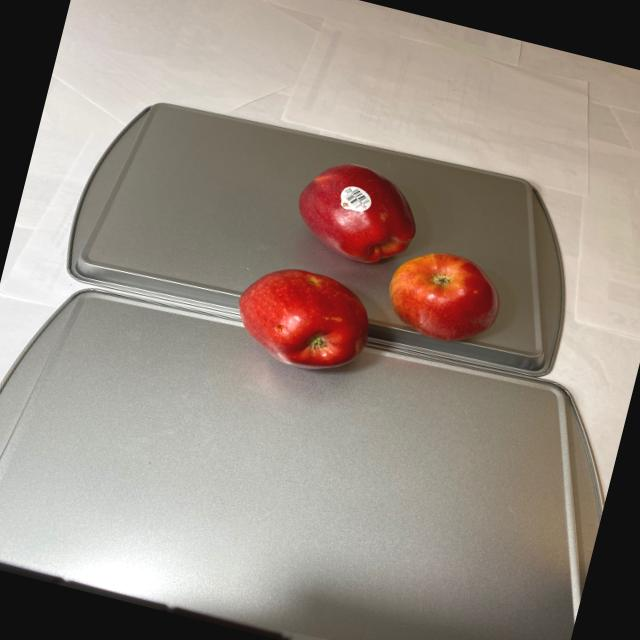apple: (227, 144, 526, 410)
